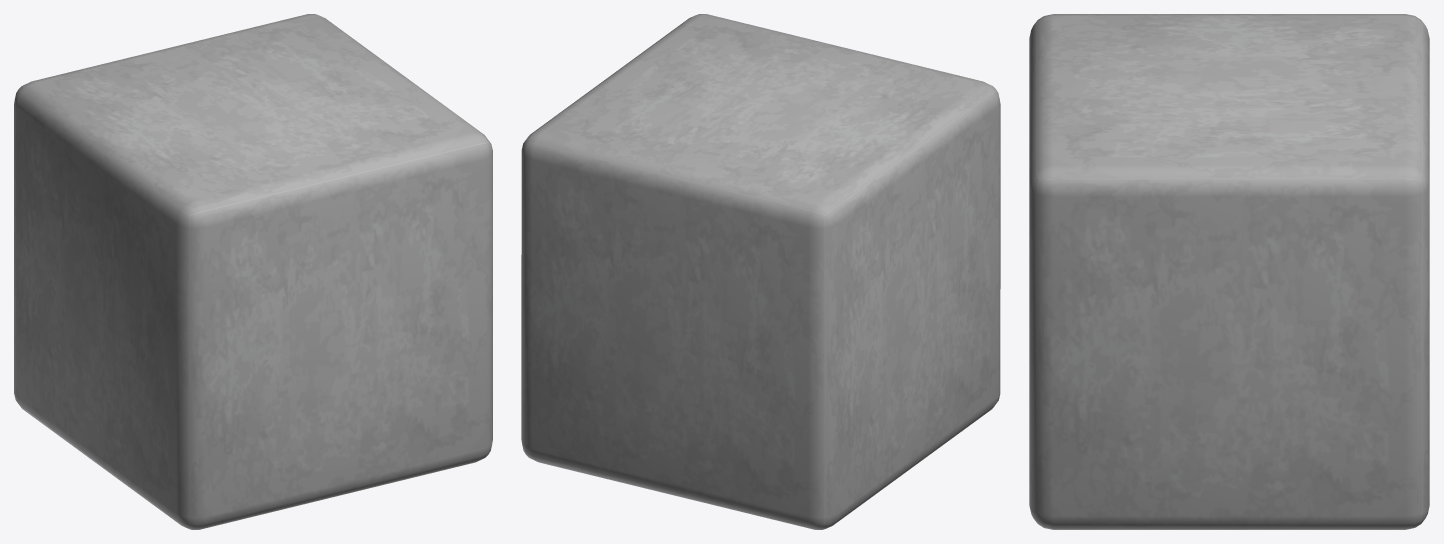
File: BetonKocka4.fbx
3 views of the same model, side by side, from view 1: azimuth 30°, elevation 25°; view 2: azimuth 150°, elevation 25°; view 3: azimuth 270°, elevation 25° (orthographic). The views are drawn at different scales.
Parts seen in each view (by area): view 1: ledena2.003; view 2: ledena2.003; view 3: ledena2.003.
Boxes of the visible parts, bbox=[...] form: ledena2.003: bbox=[14, 14, 492, 529]; ledena2.003: bbox=[521, 14, 1000, 529]; ledena2.003: bbox=[1029, 14, 1429, 529].
Bounding box in the file's own units: 9650 × 9653 × 9653.
Materials: 1 (1 with a texture image).
